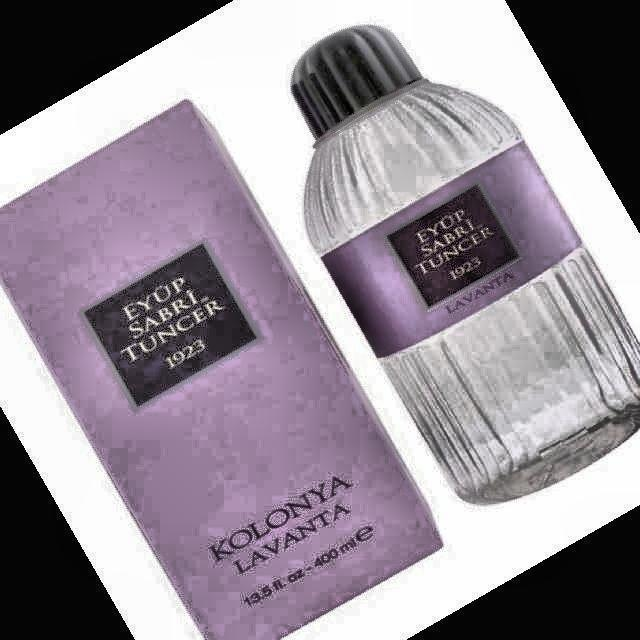cardboard: (0, 101, 441, 639)
plastic: (292, 25, 640, 503)
